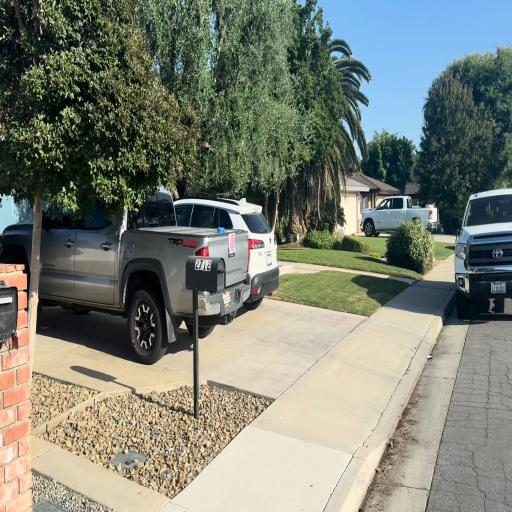bullseye: (229, 233, 235, 253)
